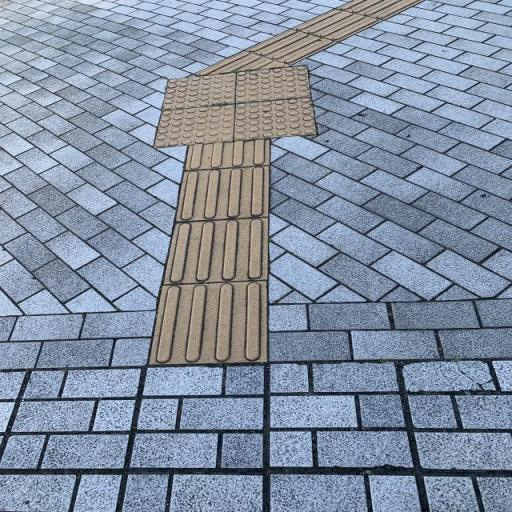dot: (234, 97, 318, 142), (154, 103, 235, 148), (236, 65, 311, 105), (161, 72, 237, 111)
line: (149, 280, 269, 366), (163, 218, 270, 283), (175, 165, 270, 224), (186, 137, 270, 170)
